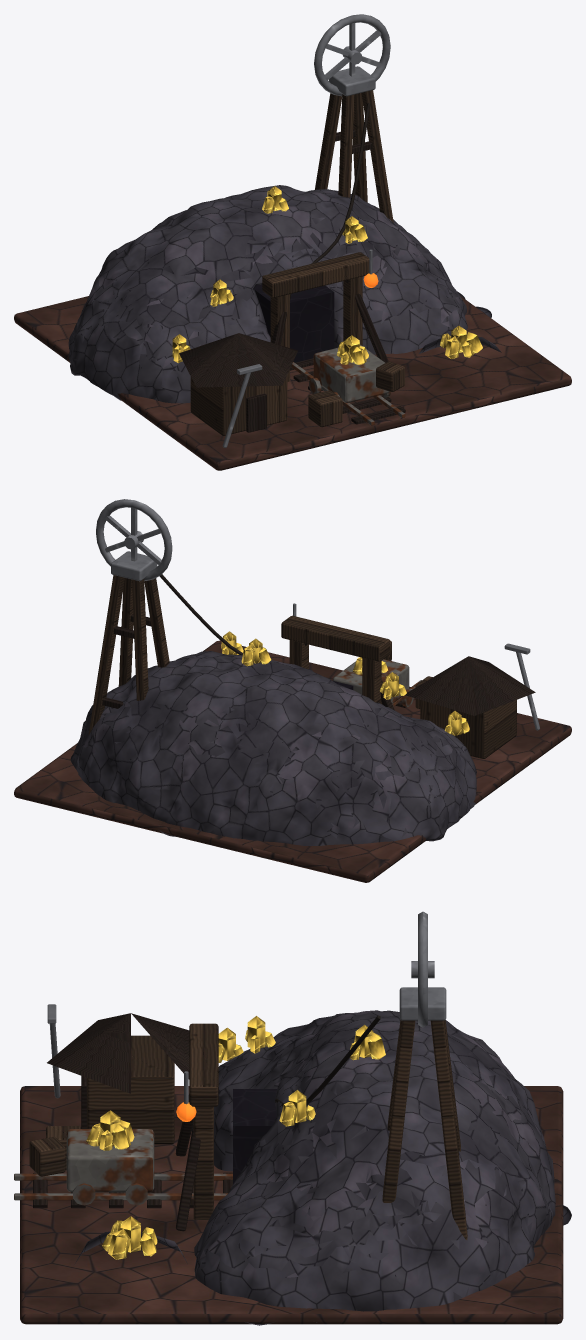
The model's file is goldmine.glb.
3 renders of one model, top to bottom at view 1: azimuth 30°, elevation 25°; view 2: azimuth 150°, elevation 25°; view 3: azimuth 270°, elevation 25°, orthographic. The views are drawn at different scales.
Parts seen in each view (by area): view 1: Base, Turret; view 2: Base, Turret; view 3: Base, Turret.
Boxes of the visible parts, x1=… form: Base: x1=14, y1=66, x2=571, y2=470; Turret: x1=314, y1=14, x2=390, y2=96; Base: x1=14, y1=551, x2=571, y2=882; Turret: x1=96, y1=499, x2=172, y2=581; Base: x1=14, y1=987, x2=571, y2=1325; Turret: x1=411, y1=911, x2=434, y2=1027.
Size of the model in its own units: 1.94 by 1.43 by 1.91.
10 materials, 10 textured.
